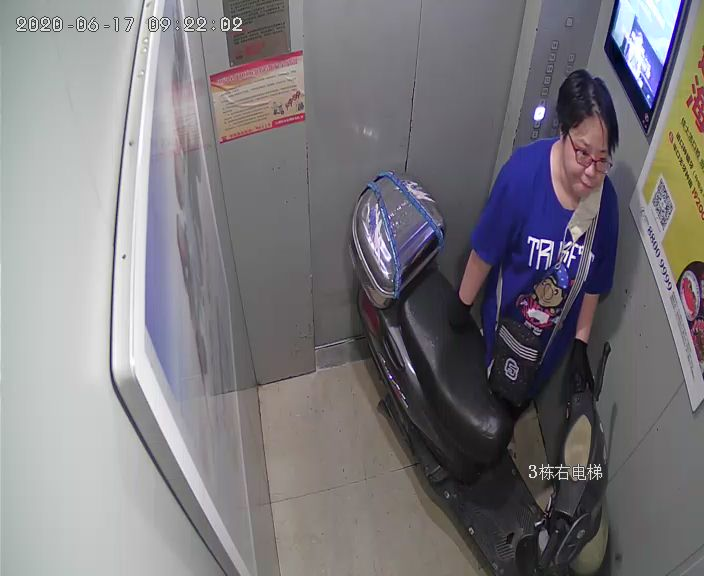Electric-bicycle: (354, 175, 613, 576)
